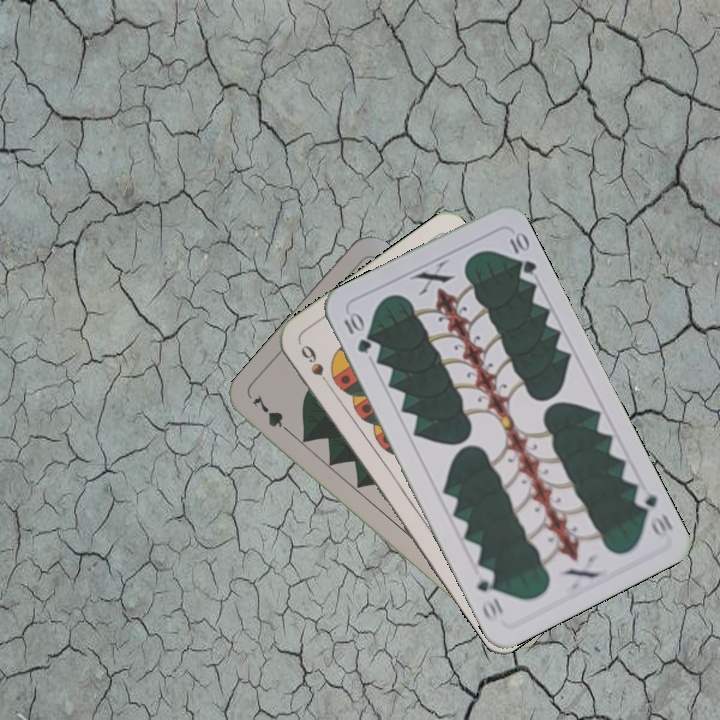G10: (630, 483, 676, 542), (339, 308, 374, 356)
G7: (248, 390, 297, 439)
S9: (296, 340, 335, 393)
